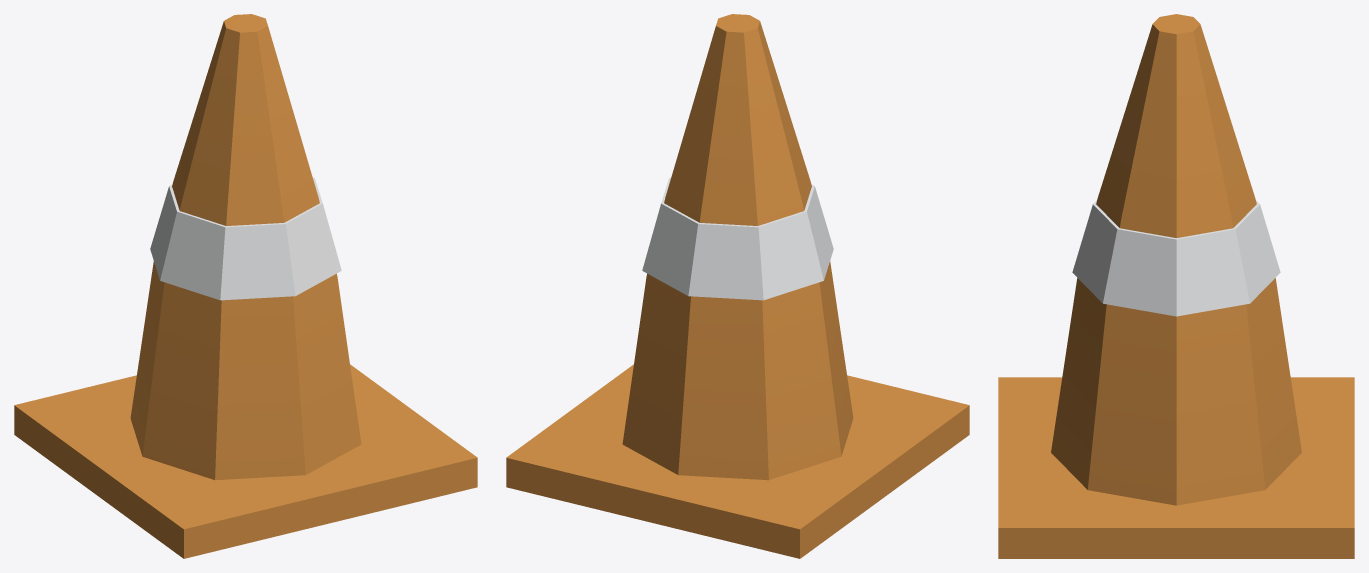
3 views of the same model, side by side, from view 1: azimuth 30°, elevation 25°; view 2: azimuth 150°, elevation 25°; view 3: azimuth 270°, elevation 25° (orthographic). The views are drawn at different scales.
Parts seen in each view (by area): view 1: Cone; view 2: Cone; view 3: Cone.
Boxes of the visible parts, box(x1,y1,x2,y2) form: Cone: box(14, 14, 477, 558); Cone: box(506, 14, 969, 558); Cone: box(998, 14, 1354, 558).
Bounding box in the file's own units: 0.52 × 0.74 × 0.52.
